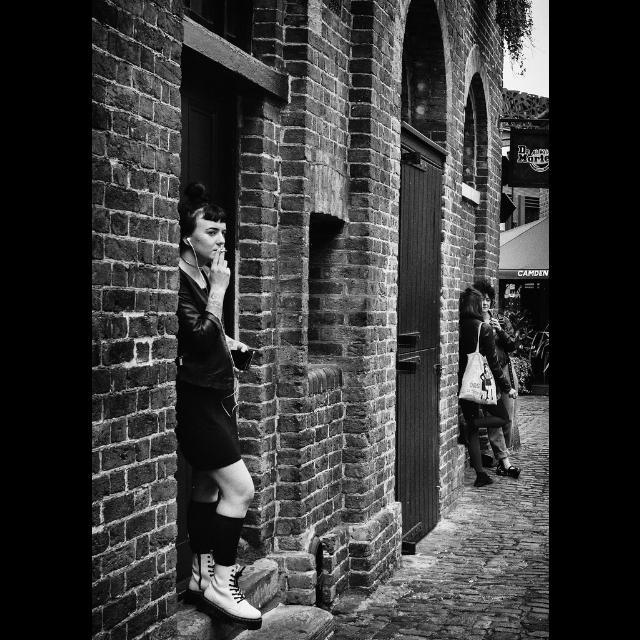rokok: (215, 244, 227, 252)
